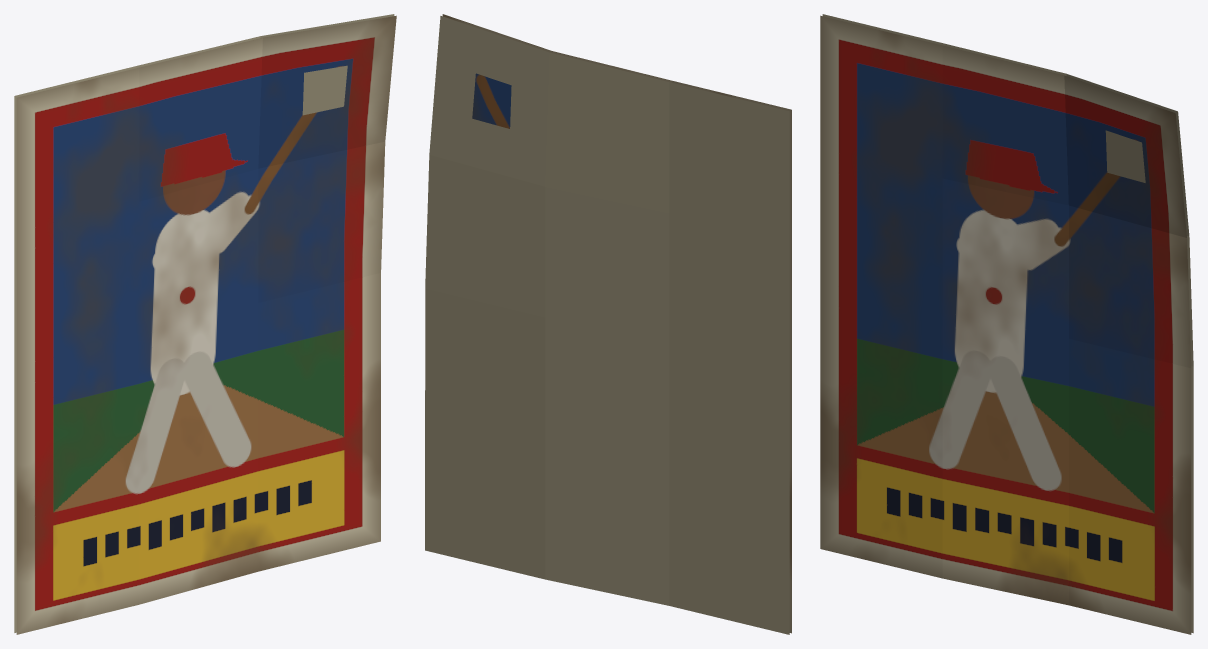
Rendered from baseball_card.glb.
The picture shows the model from 3 angles, left to right: view 1: azimuth 30°, elevation 25°; view 2: azimuth 150°, elevation 25°; view 3: azimuth 330°, elevation 25°; orthographic projection. The views are drawn at different scales.
Parts seen in each view (by area): view 1: baseball_card; view 2: baseball_card; view 3: baseball_card.
Boxes of the visible parts, x1,y1,x2,y2 form: baseball_card: (14,14,396,634); baseball_card: (425,14,791,634); baseball_card: (820,14,1193,634).
Bounding box in the file's own units: 0.064 × 0.089 × 0.00543.
2 materials, 1 textured.
